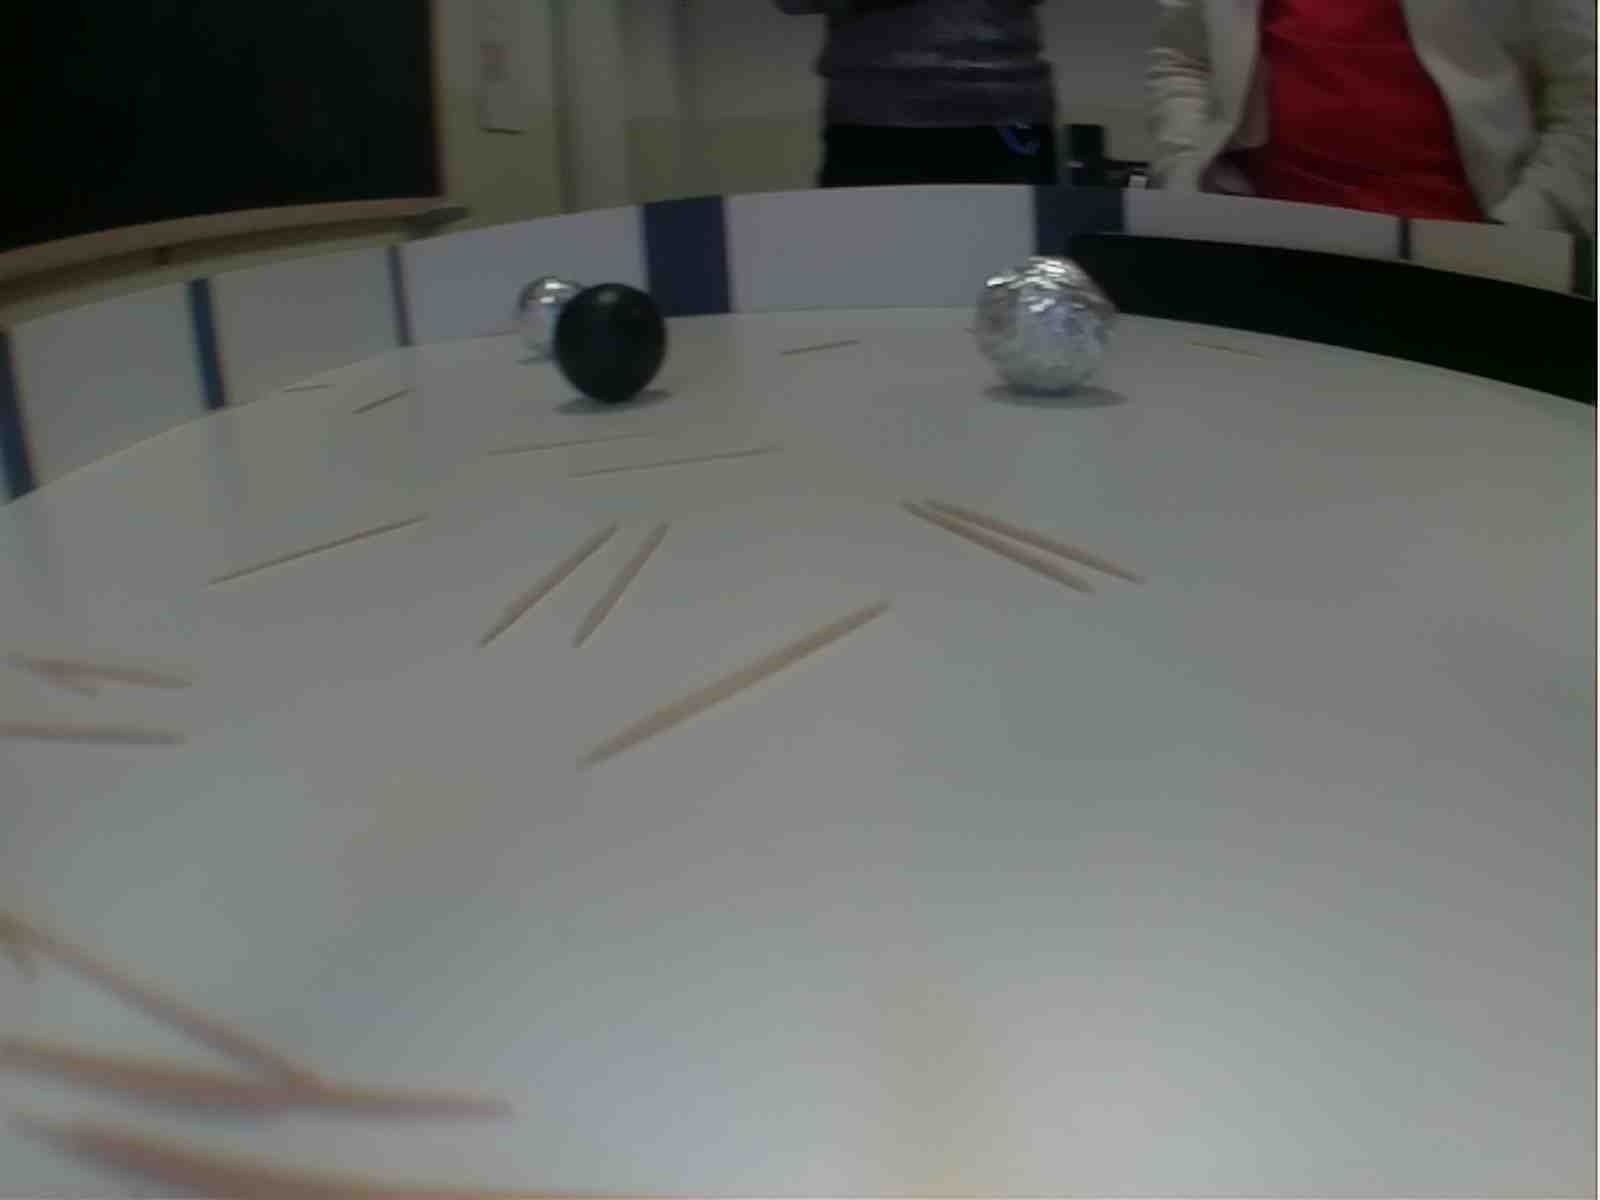bianca: (964, 255, 1123, 393), (514, 274, 585, 359)
nera: (553, 280, 682, 401)
